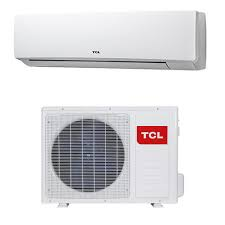ac: (12, 11, 208, 78)
